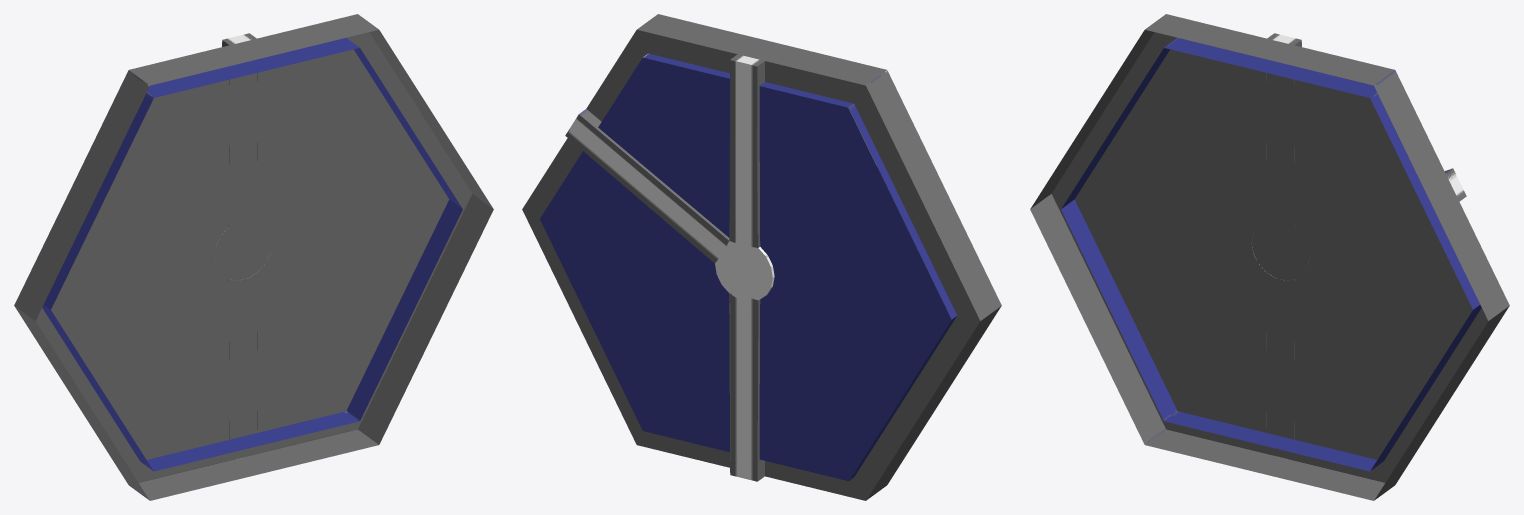
Rendered from Hexagons Middle 3 Trails Mirroed.fbx.
3 renders of one model, left to right at view 1: azimuth 30°, elevation 25°; view 2: azimuth 150°, elevation 25°; view 3: azimuth 330°, elevation 25°, orthographic.
Parts seen in each view (by area): view 1: Cylinder.048; view 2: Cylinder.048; view 3: Cylinder.048.
Boxes of the visible parts, box(x1,y1,x2,y2) form: Cylinder.048: box(14, 14, 493, 500); Cylinder.048: box(522, 14, 1001, 500); Cylinder.048: box(1030, 14, 1509, 500).
Bounding box in the file's own units: 14 × 12.12 × 1.53.
1 material, 1 textured.
